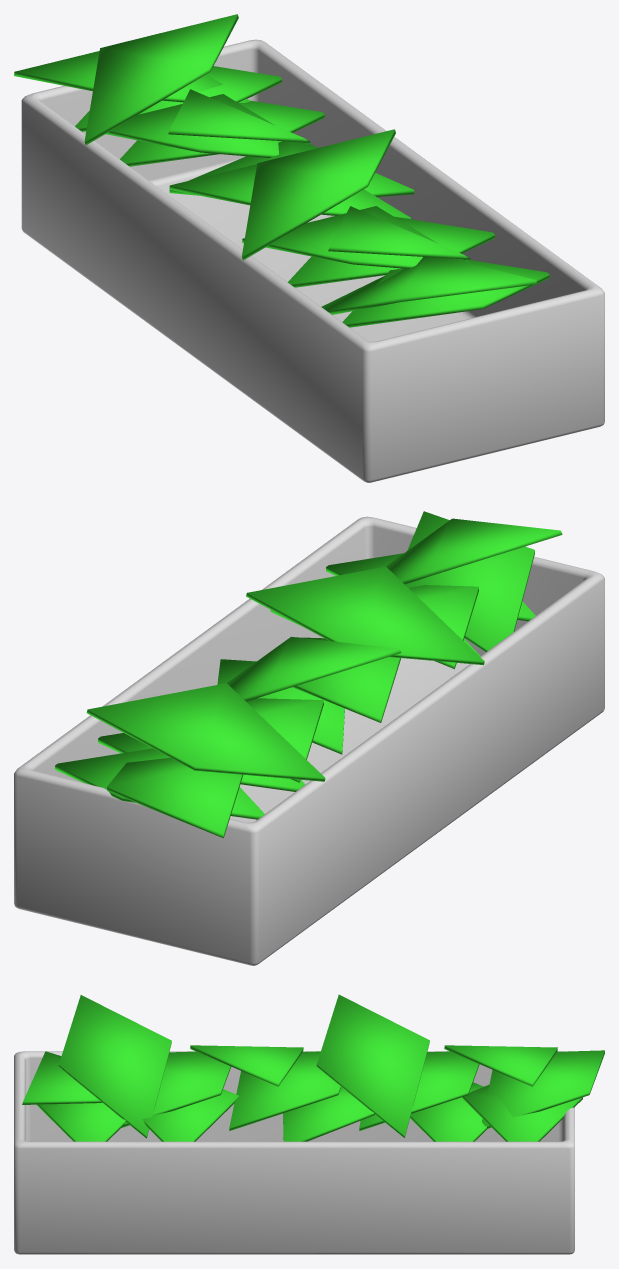
File: Plant Pot.fbx
3 views of the same model, one above another, from view 1: azimuth 30°, elevation 25°; view 2: azimuth 150°, elevation 25°; view 3: azimuth 270°, elevation 25° (orthographic). The views are drawn at different scales.
Visible parts, largest first — view 1: Planet Pot.004|Cube.040|Dupli|, Planet Pot.004|Plane.006|Dupli|0.20, Planet Pot.004|Plane.006|Dupli|0.18, Planet Pot.004|Plane.006|Dupli|0.7, Planet Pot.004|Plane.006|Dupli|0.15, Planet Pot.004|Plane.006|Dupli|0.3, Planet Pot.004|Plane.006|Dupli|0.17, Planet Pot.004|Plane.006|Dupli|0.19, Planet Pot.004|Plane.006|Dupli|0.13, Planet Pot.004|Plane.006|Dupli|0.2, Planet Pot.004|Plane.006|Dupli|0.14, Planet Pot.004|Plane.006|Dupli|0.5 (+3 smaller); view 2: Planet Pot.004|Cube.040|Dupli|, Planet Pot.004|Plane.006|Dupli|0.18, Planet Pot.004|Plane.006|Dupli|0.20, Planet Pot.004|Plane.006|Dupli|0.16, Planet Pot.004|Plane.006|Dupli|0.7, Planet Pot.004|Plane.006|Dupli|0.17, Planet Pot.004|Plane.006|Dupli|0.19, Planet Pot.004|Plane.006|Dupli|0.14, Planet Pot.004|Plane.006|Dupli|0.6, Planet Pot.004|Plane.006|Dupli|0.15, Planet Pot.004|Plane.006|Dupli|0.4, Planet Pot.004|Plane.006|Dupli|0.13 (+2 smaller); view 3: Planet Pot.004|Cube.040|Dupli|, Planet Pot.004|Plane.006|Dupli|0.19, Planet Pot.004|Plane.006|Dupli|0.17, Planet Pot.004|Plane.006|Dupli|0.16, Planet Pot.004|Plane.006|Dupli|0.14, Planet Pot.004|Plane.006|Dupli|0.13, Planet Pot.004|Plane.006|Dupli|0.15, Planet Pot.004|Plane.006|Dupli|0.6, Planet Pot.004|Plane.006|Dupli|0.4, Planet Pot.004|Plane.006|Dupli|0.18, Planet Pot.004|Plane.006|Dupli|0.20, Planet Pot.004|Plane.006|Dupli|0.2 (+3 smaller).
Boxes of the visible parts, left/top/right/bottom form: Planet Pot.004|Cube.040|Dupli|: left=21, top=39, right=604, bottom=482; Planet Pot.004|Plane.006|Dupli|0.20: left=241, top=129, right=395, bottom=260; Planet Pot.004|Plane.006|Dupli|0.18: left=84, top=14, right=238, bottom=145; Planet Pot.004|Plane.006|Dupli|0.7: left=321, top=257, right=536, bottom=314; Planet Pot.004|Plane.006|Dupli|0.15: left=105, top=94, right=281, bottom=157; Planet Pot.004|Plane.006|Dupli|0.3: left=342, top=258, right=549, bottom=327; Planet Pot.004|Plane.006|Dupli|0.17: left=328, top=206, right=470, bottom=261; Planet Pot.004|Plane.006|Dupli|0.19: left=168, top=89, right=310, bottom=144; Planet Pot.004|Plane.006|Dupli|0.13: left=242, top=206, right=438, bottom=268; Planet Pot.004|Plane.006|Dupli|0.2: left=288, top=216, right=494, bottom=287; Planet Pot.004|Plane.006|Dupli|0.14: left=169, top=164, right=410, bottom=219; Planet Pot.004|Plane.006|Dupli|0.5: left=120, top=100, right=324, bottom=166; Planet Pot.004|Cube.040|Dupli|: left=14, top=516, right=604, bottom=965; Planet Pot.004|Plane.006|Dupli|0.18: left=86, top=683, right=325, bottom=781; Planet Pot.004|Plane.006|Dupli|0.20: left=246, top=566, right=484, bottom=665; Planet Pot.004|Plane.006|Dupli|0.16: left=107, top=758, right=243, bottom=838; Planet Pot.004|Plane.006|Dupli|0.7: left=405, top=511, right=534, bottom=651; Planet Pot.004|Plane.006|Dupli|0.17: left=386, top=518, right=562, bottom=584; Planet Pot.004|Plane.006|Dupli|0.19: left=227, top=636, right=401, bottom=701; Planet Pot.004|Plane.006|Dupli|0.14: left=292, top=637, right=400, bottom=722; Planet Pot.004|Plane.006|Dupli|0.6: left=55, top=748, right=264, bottom=819; Planet Pot.004|Plane.006|Dupli|0.15: left=247, top=698, right=323, bottom=782; Planet Pot.004|Plane.006|Dupli|0.4: left=217, top=659, right=344, bottom=754; Planet Pot.004|Plane.006|Dupli|0.13: left=409, top=585, right=478, bottom=669; Planet Pot.004|Cube.040|Dupli|: left=14, top=1051, right=574, bottom=1254; Planet Pot.004|Plane.006|Dupli|0.19: left=316, top=994, right=429, bottom=1137; Planet Pot.004|Plane.006|Dupli|0.17: left=58, top=995, right=171, bottom=1138; Planet Pot.004|Plane.006|Dupli|0.16: left=481, top=1050, right=604, bottom=1128; Planet Pot.004|Plane.006|Dupli|0.14: left=229, top=1051, right=341, bottom=1130; Planet Pot.004|Plane.006|Dupli|0.13: left=121, top=1051, right=230, bottom=1127; Planet Pot.004|Plane.006|Dupli|0.15: left=359, top=1051, right=479, bottom=1130; Planet Pot.004|Plane.006|Dupli|0.6: left=462, top=1085, right=582, bottom=1141; Planet Pot.004|Plane.006|Dupli|0.4: left=283, top=1087, right=375, bottom=1141; Planet Pot.004|Plane.006|Dupli|0.18: left=444, top=1045, right=557, bottom=1086; Planet Pot.004|Plane.006|Dupli|0.20: left=190, top=1045, right=303, bottom=1086; Planet Pot.004|Plane.006|Dupli|0.2: left=143, top=1089, right=238, bottom=1141.
Size of the model in its own units: 57.24 by 46.87 by 149.
